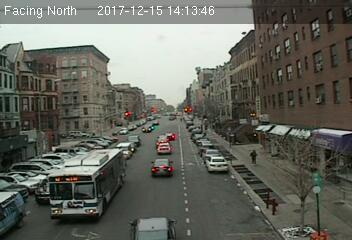bus: (50, 149, 127, 221)
car: (129, 217, 175, 240), (150, 158, 174, 176), (205, 156, 230, 173), (157, 143, 172, 154)
pedestrian: (250, 149, 257, 167)
truck: (1, 188, 23, 234)
